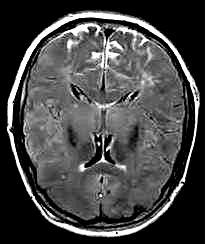Normal_Brain: (1, 1, 206, 244)
